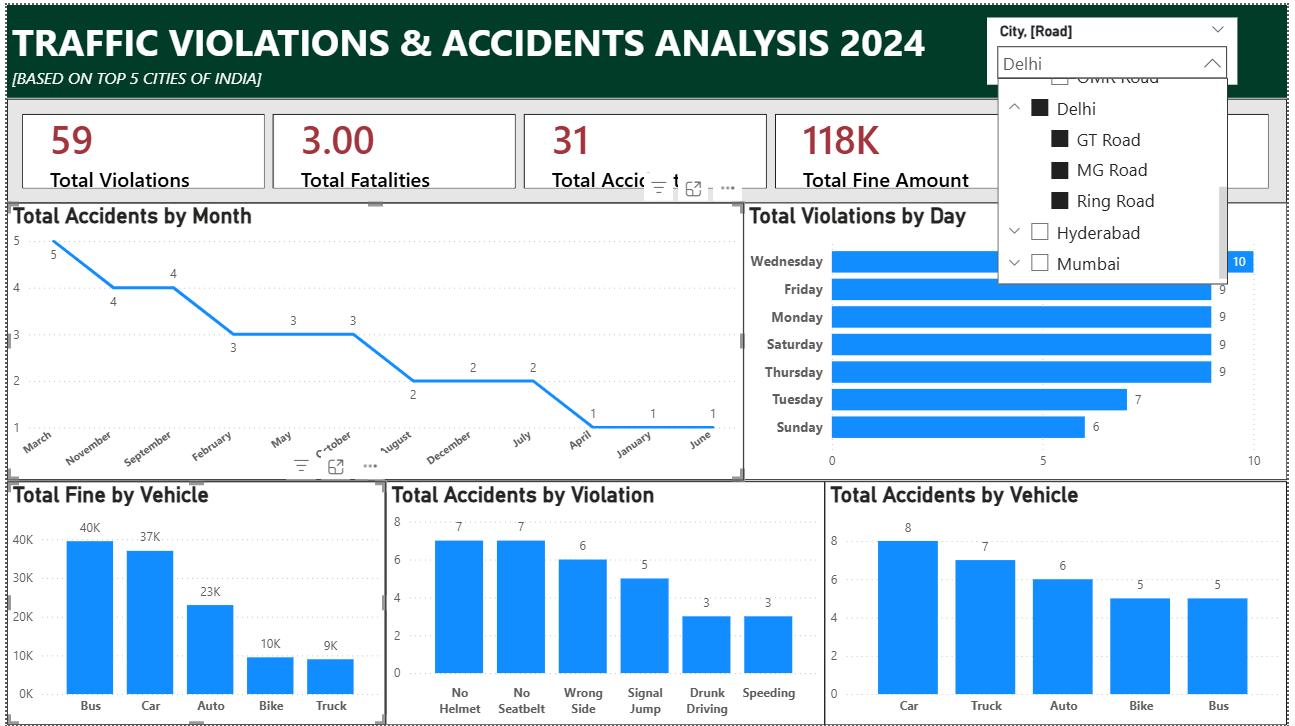

This screenshot's page, from the dashboard's own definition file:
{"tool":"powerbi","page":{"name":"Page 1","canvas":[1280,720],"ordinal":0},"visuals":[{"type":"cardVisual","fields":{"Data":["key measure.Total Violations","key measure.Total Fatalities","key measure.Total Accidents","key measure.Total Fine Amount","key measure.Repeat Offender %"]},"box":[0,93.3,1280,105],"z":0},{"type":"textbox","box":[0,0,1280.3,92.9],"z":1000},{"type":"lineChart","fields":{"Y":["key measure.Total Accidents"],"Category":["Dim_date.Month Name"]},"box":[0,197.8,736.4,277.4],"z":2000},{"type":"barChart","fields":{"Category":["Dim_date.Day Name"],"Y":["key measure.Total Violations"]},"box":[736.4,197.8,543.6,277.4],"z":3000},{"type":"columnChart","fields":{"Category":["Fact_table.Vehicle_type"],"Y":["key measure.Total Fine Amount"]},"box":[0,476.2,378.7,244.3],"z":4000},{"type":"slicer","fields":{"Values":["Dim_location.City","Dim_location.Road_name"]},"box":[980.2,12.4,250,67.2],"z":5000},{"type":"clusteredColumnChart","fields":{"Y":["key measure.Total Accidents"],"Category":["Fact_table.Vehicle_type"]},"box":[817.8,476.2,462.4,244.3],"z":6000},{"type":"clusteredColumnChart","fields":{"Y":["key measure.Total Accidents"],"Category":["Fact_table.Violation_type"]},"box":[378.7,476.2,439.1,244.3],"z":7000}]}

Visuals, with their boxes in screenshot pixels (x1, y1, x2, y2), scaled from the page's 1280x720 canvas onto the 1295x726 screenshot:
cardVisual - key measure.Total Violations x key measure.Total Fatalities: x1=0 y1=94 x2=1294 y2=200
textbox: x1=0 y1=0 x2=1294 y2=94
lineChart - key measure.Total Accidents x Dim_date.Month Name: x1=0 y1=199 x2=745 y2=479
barChart - Dim_date.Day Name x key measure.Total Violations: x1=745 y1=199 x2=1294 y2=479
columnChart - Fact_table.Vehicle_type x key measure.Total Fine Amount: x1=0 y1=480 x2=383 y2=725
slicer - Dim_location.City x Dim_location.Road_name: x1=992 y1=13 x2=1245 y2=80
clusteredColumnChart - key measure.Total Accidents x Fact_table.Vehicle_type: x1=827 y1=480 x2=1294 y2=725
clusteredColumnChart - key measure.Total Accidents x Fact_table.Violation_type: x1=383 y1=480 x2=827 y2=725
